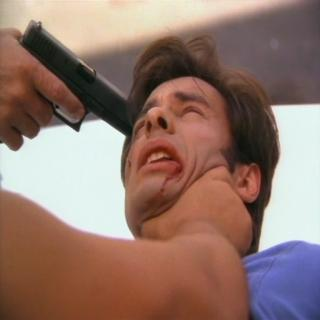gun: (0, 18, 134, 150)
